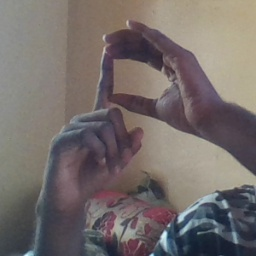P: (57, 17, 197, 170)
